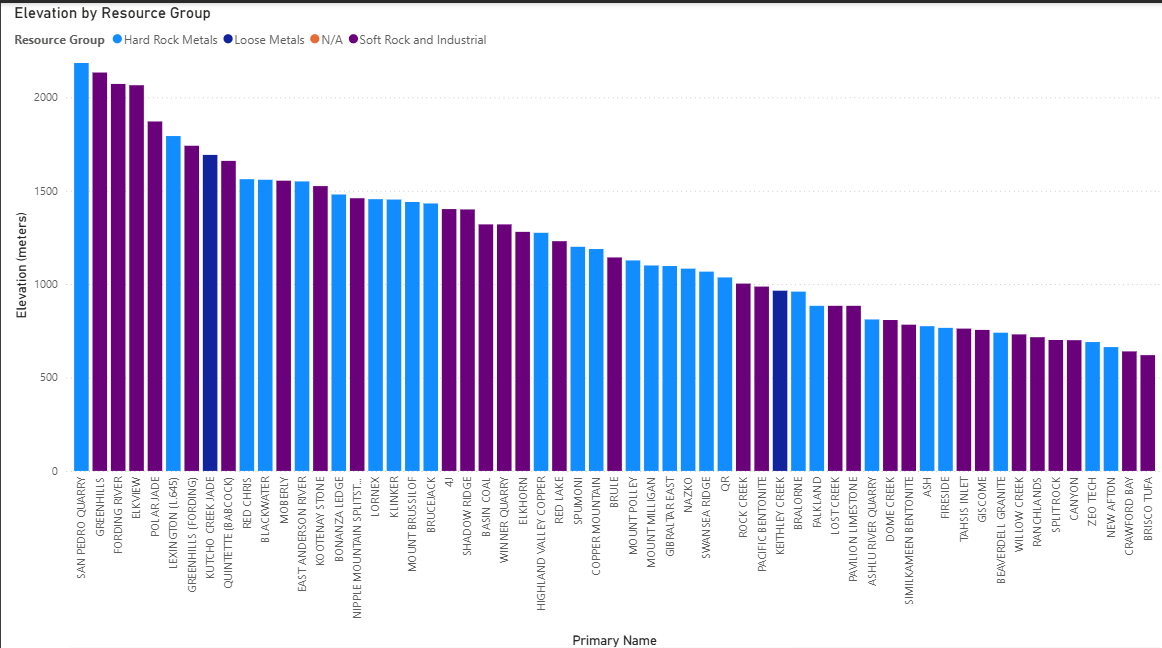

What the dashboard file says about the page in this screenshot:
{"tool":"powerbi","page":{"name":"Elevation and Resource","canvas":[1280,720],"ordinal":1},"visuals":[{"type":"columnChart","title":"Elevation by Resource Group","fields":{"Y":["Sum(MineralOccurrenceData.Elevation (meters))"],"Category":["MineralOccurrenceData.Primary Name"],"Series":["MineralOccurrenceData.Resource Group"]},"box":[9.6,0,1270.7,720.4],"z":0}]}

Visuals, with their boxes in screenshot pixels (x1, y1, x2, y2), scaled from the page's 1280x720 canvas onto the 1162x648 screenshot:
"Elevation by Resource Group" columnChart: [left=9, top=0, right=1161, bottom=647]
